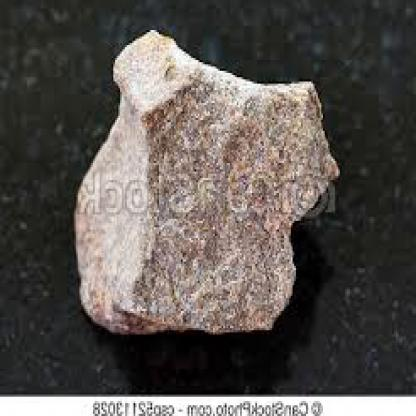Metamorphic_Quartize: (54, 22, 355, 336)
